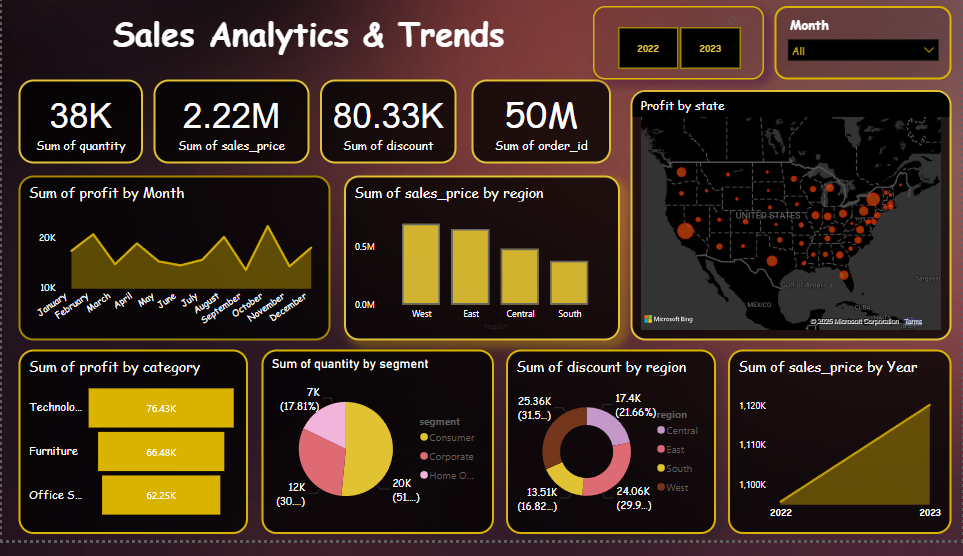

The dashboard page shown, as its layout file describes it:
{"tool":"powerbi","page":{"name":"Page 1","canvas":[1280,720],"ordinal":0},"visuals":[{"type":"card","fields":{"Values":["Sum(orders_modified.order_id)"]},"box":[626,106,186,112],"z":0},{"type":"clusteredColumnChart","fields":{"Category":["orders_modified.region"],"Y":["Sum(orders_modified.sales_price)"]},"box":[456,234,368,220],"z":1000},{"type":"areaChart","fields":{"Category":["orders_modified.order_date.Variation.Date Hierarchy.Year"],"Y":["Sum(orders_modified.sales_price)"]},"box":[968,466,298,246],"z":2000},{"type":"donutChart","fields":{"Y":["Sum(orders_modified.discount)"],"Series":["orders_modified.region"]},"box":[672,466,280,246],"z":3000},{"type":"funnel","fields":{"Category":["orders_modified.category"],"Y":["Sum(orders_modified.profit)"]},"box":[22,466,306,246],"z":4000},{"type":"lineStackedColumnComboChart","fields":{"Category":["orders_modified.order_date.Variation.Date Hierarchy.Month"],"Y2":["Sum(orders_modified.profit)"]},"box":[22,234,416,220],"z":5000},{"type":"map","title":"Profit by state","fields":{"Category":["orders_modified.state"],"Size":["Sum(orders_modified.profit)"]},"box":[838,120,428,334],"z":6000},{"type":"pieChart","fields":{"Category":["orders_modified.segment"],"Y":["Sum(orders_modified.quantity)"]},"box":[346,466,310,246],"z":7000},{"type":"slicer","fields":{"Values":["orders_modified.order_date.Variation.Date Hierarchy.Year"]},"box":[788,8,228,98],"z":8000},{"type":"card","fields":{"Values":["Sum(orders_modified.quantity)"]},"box":[22,106,166,112],"z":9000},{"type":"card","fields":{"Values":["Sum(orders_modified.discount)"]},"box":[424,106,182,112],"z":10000},{"type":"card","fields":{"Values":["Sum(orders_modified.sales_price)"]},"box":[202,106,208,112],"z":11000},{"type":"textbox","box":[86,8,664,128],"z":12000},{"type":"slicer","fields":{"Values":["orders_modified.order_date.Variation.Date Hierarchy.Month"]},"box":[1030,8,236,98],"z":13000}]}

Visuals, with their boxes in screenshot pixels (x1, y1, x2, y2), scaled from the page's 1280x720 canvas onto the 963x556 screenshot:
card - Sum(orders_modified.order_id): x1=471 y1=82 x2=611 y2=168
clusteredColumnChart - orders_modified.region x Sum(orders_modified.sales_price): x1=343 y1=181 x2=620 y2=351
areaChart - orders_modified.order_date.Variation.Date Hierarchy.Year x Sum(orders_modified.sales_price): x1=728 y1=360 x2=952 y2=550
donutChart - Sum(orders_modified.discount) x orders_modified.region: x1=506 y1=360 x2=716 y2=550
funnel - orders_modified.category x Sum(orders_modified.profit): x1=17 y1=360 x2=247 y2=550
lineStackedColumnComboChart - orders_modified.order_date.Variation.Date Hierarchy.Month x Sum(orders_modified.profit): x1=17 y1=181 x2=330 y2=351
"Profit by state" map: x1=630 y1=93 x2=952 y2=351
pieChart - orders_modified.segment x Sum(orders_modified.quantity): x1=260 y1=360 x2=494 y2=550
slicer - orders_modified.order_date.Variation.Date Hierarchy.Year: x1=593 y1=6 x2=764 y2=82
card - Sum(orders_modified.quantity): x1=17 y1=82 x2=141 y2=168
card - Sum(orders_modified.discount): x1=319 y1=82 x2=456 y2=168
card - Sum(orders_modified.sales_price): x1=152 y1=82 x2=308 y2=168
textbox: x1=65 y1=6 x2=564 y2=105
slicer - orders_modified.order_date.Variation.Date Hierarchy.Month: x1=775 y1=6 x2=952 y2=82
